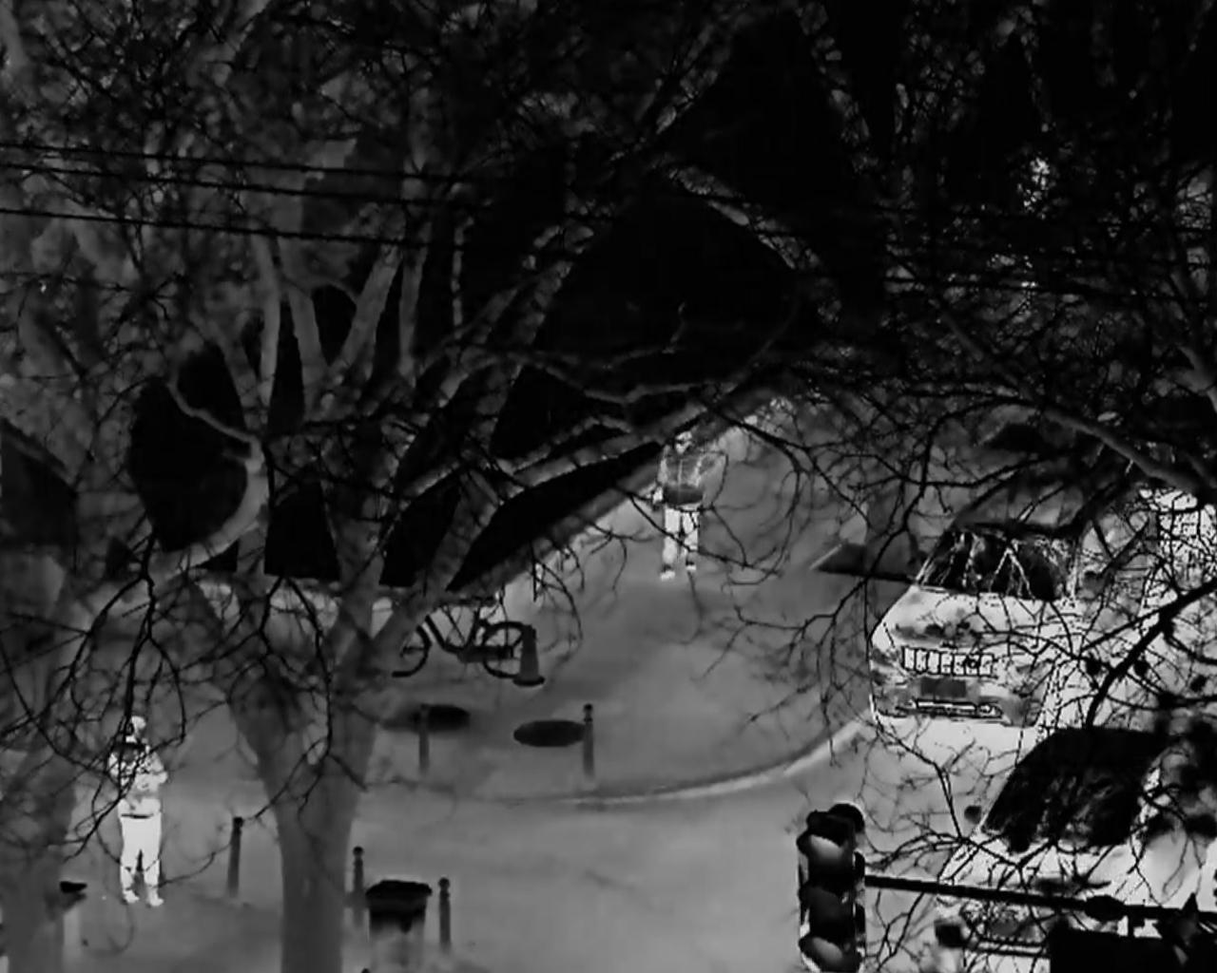person: (106, 715, 169, 909), (650, 429, 707, 580)
